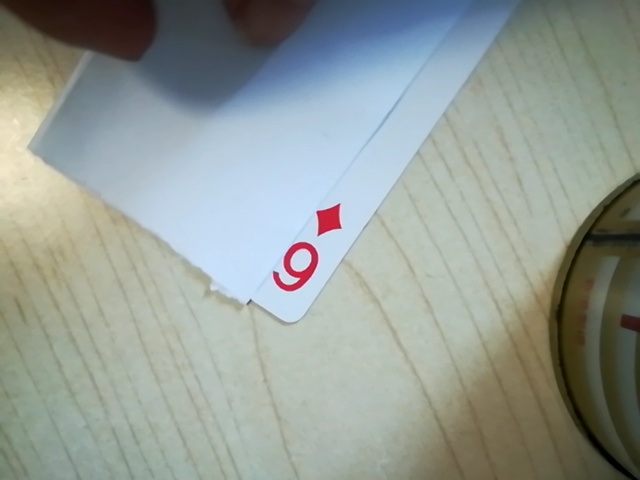fk 6: (263, 198, 344, 299)
